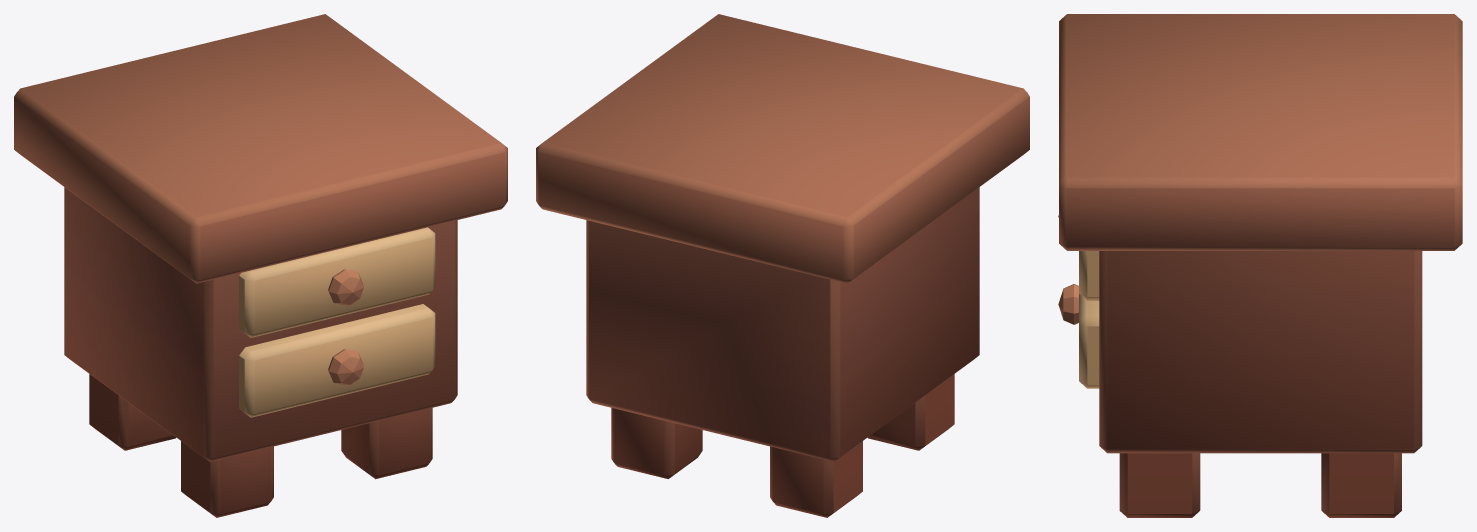
Rendered from skap.glb.
3 renders of one model, left to right at view 1: azimuth 30°, elevation 25°; view 2: azimuth 150°, elevation 25°; view 3: azimuth 270°, elevation 25°, orthographic. The views are drawn at different scales.
Parts seen in each view (by area): view 1: cabinet_small; view 2: cabinet_small; view 3: cabinet_small.
Part boxes in pixels (x1,y1,x2,y2): cabinet_small: (14, 14, 507, 517); cabinet_small: (536, 14, 1029, 517); cabinet_small: (1058, 14, 1462, 517).
Size of the model in its own units: 1 by 1 by 1.
Materials: 1 (1 with a texture image).
